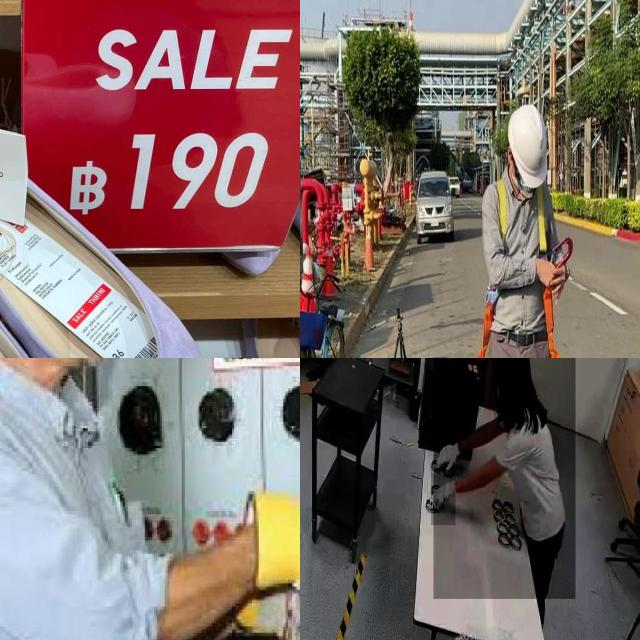Harness: (536, 288, 559, 358), (478, 303, 494, 358)
Sandals: (0, 98, 298, 358)
hand_glove: (236, 491, 300, 640), (434, 426, 463, 477), (431, 469, 456, 526)
head_nohelmet: (493, 358, 530, 375)
person: (433, 358, 576, 599)
